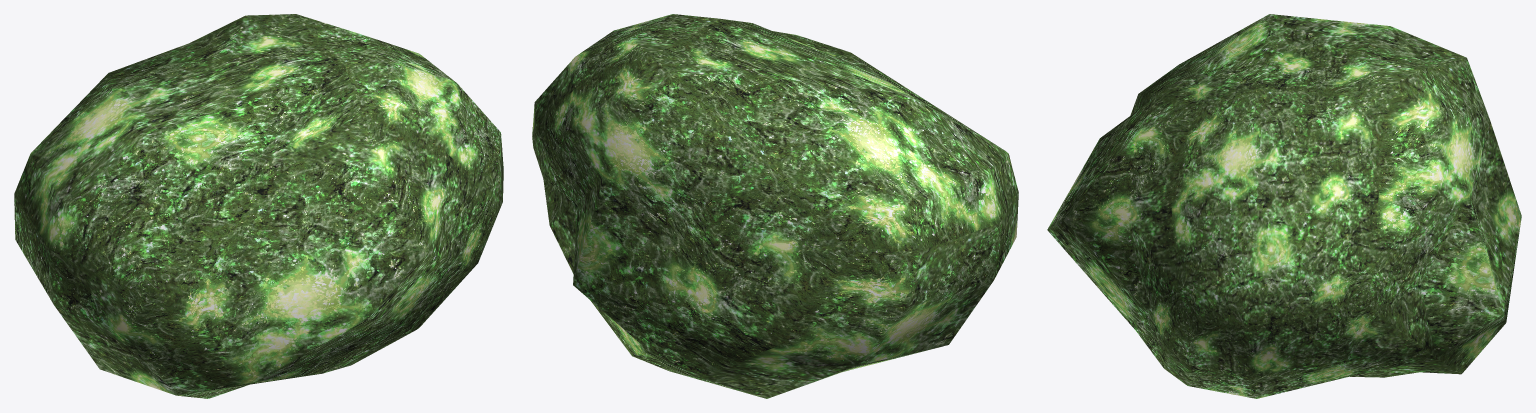
Rendered from asteroid_acid_radial_s03_l0.fbx.
The picture shows the model from 3 angles, left to right: view 1: azimuth 30°, elevation 25°; view 2: azimuth 150°, elevation 25°; view 3: azimuth 270°, elevation 25°; orthographic projection. The views are drawn at different scales.
Parts seen in each view (by area): view 1: mesh_node; view 2: mesh_node; view 3: mesh_node.
Boxes of the visible parts, left/top/right/bottom form: mesh_node: left=14, top=14, right=503, bottom=398; mesh_node: left=532, top=14, right=1018, bottom=398; mesh_node: left=1047, top=14, right=1521, bottom=398.
Bounding box in the file's own units: 5.98 × 4.08 × 5.06.
